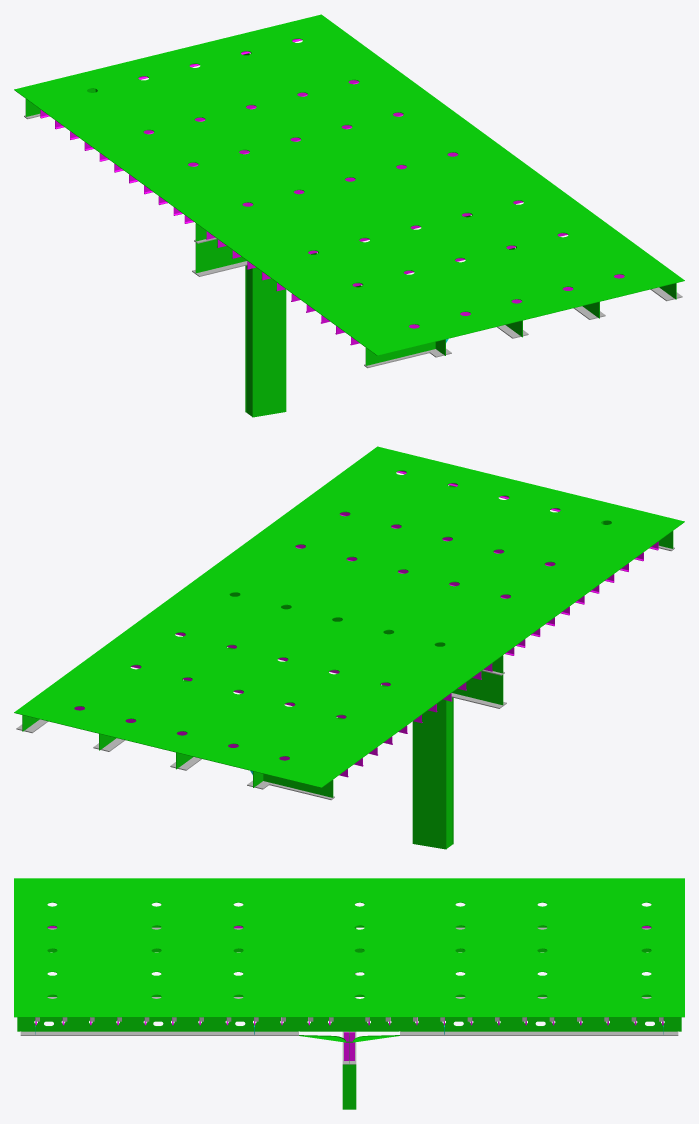
3 renders of one model, top to bottom at view 1: azimuth 30°, elevation 25°; view 2: azimuth 150°, elevation 25°; view 3: azimuth 270°, elevation 25°, orthographic. The views are drawn at different scales.
Visible parts, largest first — view 1: FacetGroup_31915, FacetGroup_31940, FacetGroup_31945, FacetGroup_31943, FacetGroup_31939, FacetGroup_31944, FacetGroup_31941, FacetGroup_32115, FacetGroup_32095, FacetGroup_32108, FacetGroup_32106; view 2: FacetGroup_31939, FacetGroup_31943, FacetGroup_31945, FacetGroup_31940, FacetGroup_31915, FacetGroup_31941, FacetGroup_31944, FacetGroup_32114, FacetGroup_32095, FacetGroup_32108, FacetGroup_32104; view 3: FacetGroup_31940, FacetGroup_31945, FacetGroup_31943, FacetGroup_31915, FacetGroup_31939, FacetGroup_31941, FacetGroup_31944, FacetGroup_32055, FacetGroup_32070, FacetGroup_32085, FacetGroup_32056, FacetGroup_32071 (+2 smaller).
Part boxes in pixels (x1,y1,x2,y2): FacetGroup_31915: (323,240,684,355); FacetGroup_31940: (68,54,429,169); FacetGroup_31945: (268,200,629,315); FacetGroup_31943: (168,127,529,242); FacetGroup_31939: (14,14,375,129); FacetGroup_31944: (223,167,575,275); FacetGroup_31941: (123,94,475,202); FacetGroup_32115: (252,267,286,417); FacetGroup_32095: (195,239,246,273); FacetGroup_32108: (246,265,252,416); FacetGroup_32106: (365,342,435,365); FacetGroup_31939: (14,672,375,787); FacetGroup_31943: (169,559,530,674); FacetGroup_31945: (269,486,630,601); FacetGroup_31940: (69,632,430,747); FacetGroup_31915: (323,446,684,561); FacetGroup_31941: (123,599,475,707); FacetGroup_31944: (223,526,575,634); FacetGroup_32114: (412,699,446,849); FacetGroup_32095: (452,671,503,705); FacetGroup_32108: (446,697,452,848); FacetGroup_32104: (263,774,333,797); FacetGroup_31940: (483,878,584,1017); FacetGroup_31945: (114,878,215,1017); FacetGroup_31943: (299,878,399,1017); FacetGroup_31915: (14,878,114,1017); FacetGroup_31939: (584,878,684,1017); FacetGroup_31941: (400,878,483,1017); FacetGroup_31944: (215,878,298,1017); FacetGroup_32055: (400,1017,681,1031); FacetGroup_32070: (17,1017,298,1031); FacetGroup_32085: (299,1017,399,1031); FacetGroup_32056: (400,1031,678,1035); FacetGroup_32071: (20,1031,298,1035).
Size of the model in its own units: 10.1 by 6.21 by 19.65.
